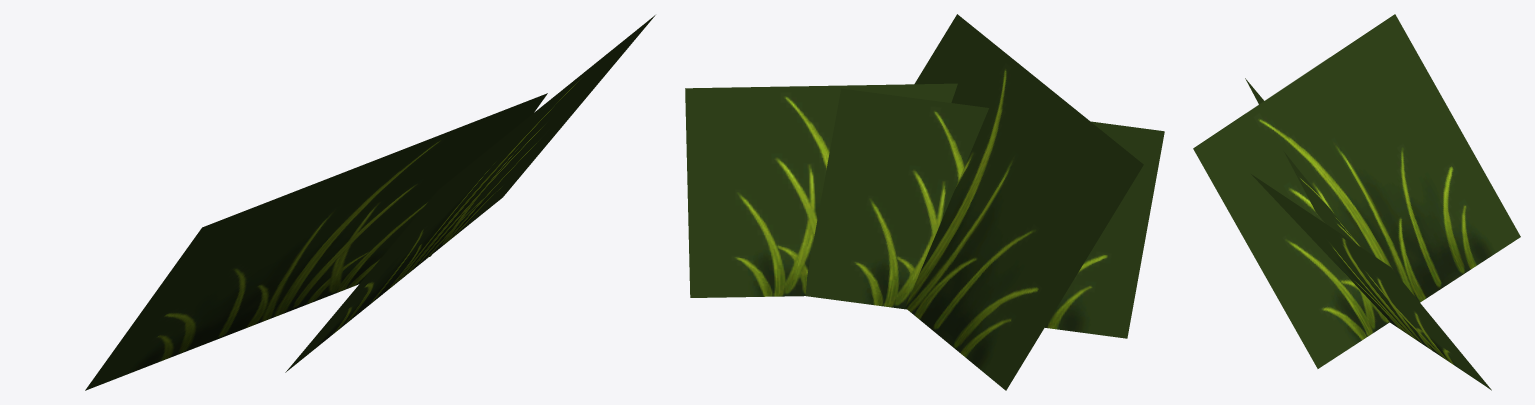
Rendered from CeShi_BFB07_Cao03.FBX.
3 views of the same model, side by side, from view 1: azimuth 30°, elevation 25°; view 2: azimuth 150°, elevation 25°; view 3: azimuth 270°, elevation 25° (orthographic). The views are drawn at different scales.
Parts seen in each view (by area): view 1: CeShi_BFB07_Cao03; view 2: CeShi_BFB07_Cao03; view 3: CeShi_BFB07_Cao03.
Part boxes in pixels (x1=…): CeShi_BFB07_Cao03: x1=85, y1=15, x2=655, y2=390; CeShi_BFB07_Cao03: x1=685, y1=14, x2=1164, y2=390; CeShi_BFB07_Cao03: x1=1193, y1=14, x2=1520, y2=390.
Bounding box in the file's own units: 243 × 100 × 156.
